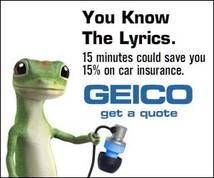Geico: (83, 83, 194, 106)
